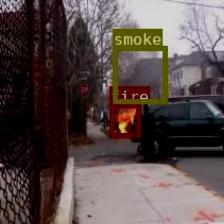fire: (108, 102, 140, 137)
smoke: (112, 45, 166, 103)
